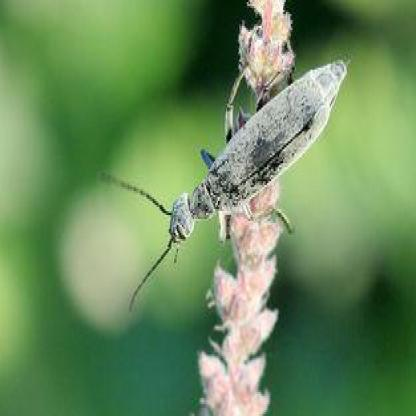beetle: (97, 35, 371, 352)
